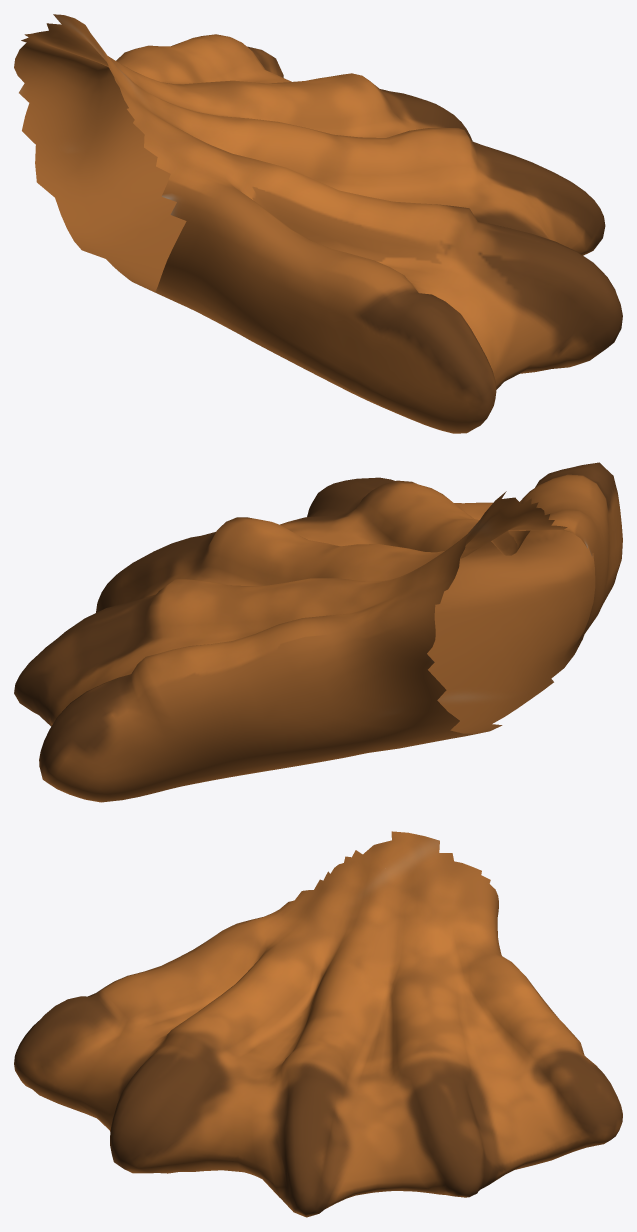
Rendered from hand.obj.
3 views of the same model, one above another, from view 1: azimuth 30°, elevation 25°; view 2: azimuth 150°, elevation 25°; view 3: azimuth 270°, elevation 25° (orthographic). The views are drawn at different scales.
Visible parts, largest first — view 1: 19409_Platypus_V1; view 2: 19409_Platypus_V1; view 3: 19409_Platypus_V1.
Part boxes in pixels (x1,y1,x2,y2): 19409_Platypus_V1: [14, 14, 622, 433]; 19409_Platypus_V1: [14, 462, 622, 802]; 19409_Platypus_V1: [14, 831, 622, 1217].
Size of the model in its own units: 3.47 by 2.13 by 5.22.
